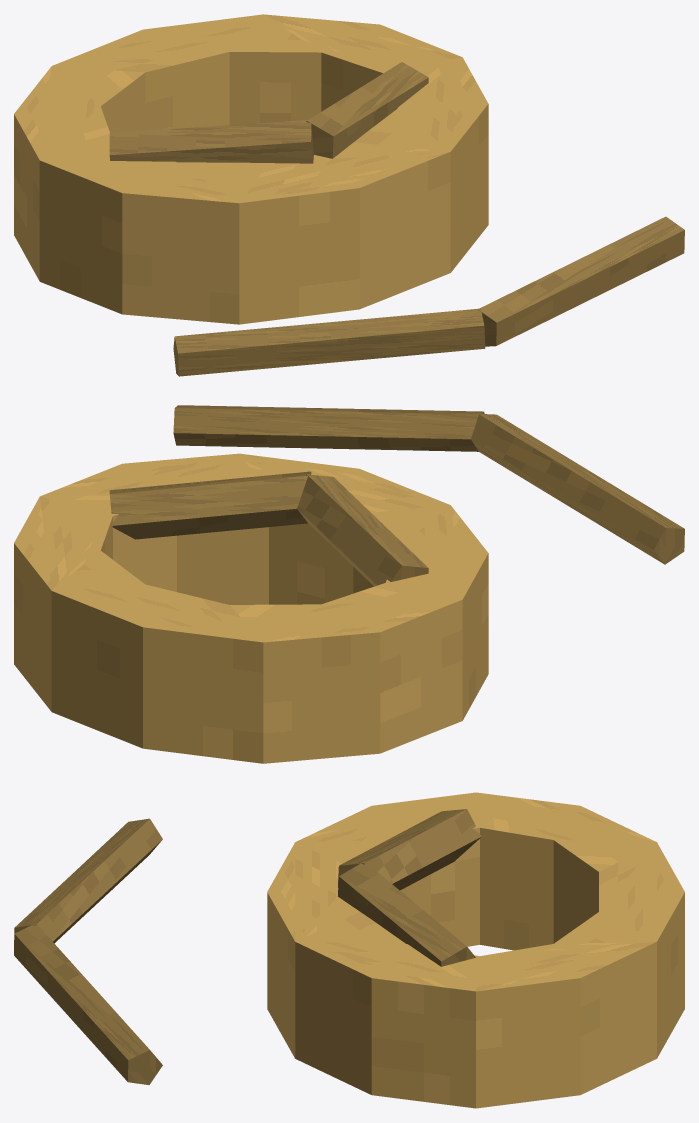
The model's file is folding_poncho.glb.
3 views of the same model, one above another, from view 1: azimuth 30°, elevation 25°; view 2: azimuth 150°, elevation 25°; view 3: azimuth 270°, elevation 25° (orthographic). The views are drawn at different scales.
Parts seen in each view (by area): view 1: block_folded hood, block_sealed hem 0, block_sealed hem 1, block_hood facing 0, block_hood facing 1; view 2: block_folded hood, block_sealed hem 1, block_hood facing 1, block_sealed hem 0, block_hood facing 0; view 3: block_folded hood, block_sealed hem 1, block_sealed hem 0, block_hood facing 1, block_hood facing 0.
Part boxes in pixels (x1,y1,x2,y2): block_folded hood: (14,14,488,324); block_sealed hem 0: (173,308,485,376); block_sealed hem 1: (477,216,684,346); block_hood facing 0: (109,120,313,163); block_hood facing 1: (306,62,428,158); block_folded hood: (14,453,488,763); block_sealed hem 1: (173,405,484,451); block_hood facing 1: (109,471,311,539); block_sealed hem 0: (471,413,684,564); block_hood facing 0: (297,474,428,586); block_folded hood: (267,792,684,1108); block_sealed hem 1: (14,923,162,1084); block_sealed hem 0: (14,818,162,944); block_hood facing 1: (338,861,475,966); block_hood facing 0: (338,809,481,890).
Size of what is drawn, in the model's own units: 0.0903 by 0.0259 by 0.1073.
Materials: 1 (1 with a texture image).
